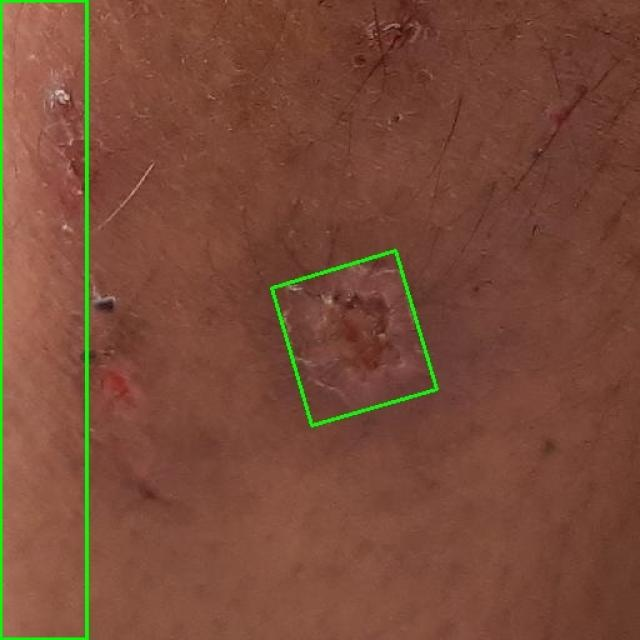Eczema: (0, 0, 86, 639), (271, 251, 437, 426)
